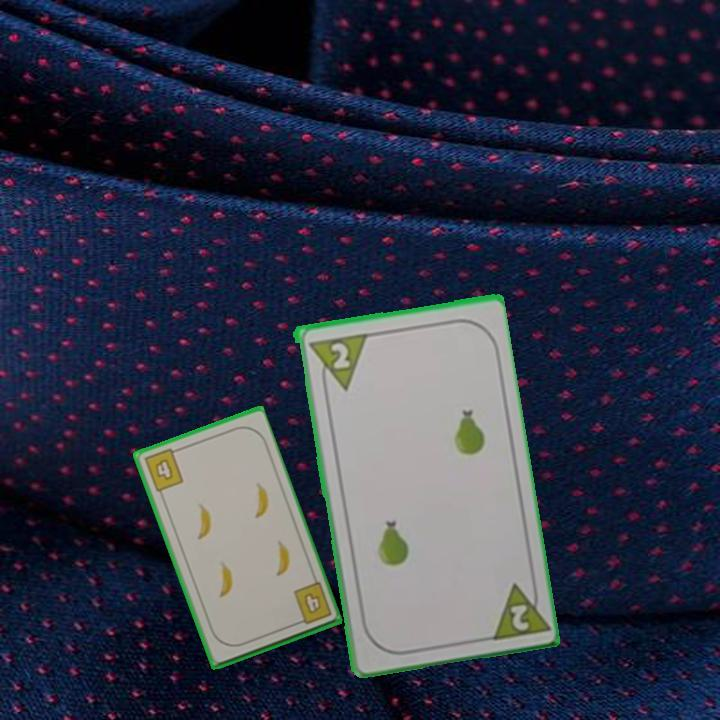2p: (484, 575, 549, 643), (304, 329, 368, 396)
4b: (140, 445, 186, 495), (290, 579, 334, 628)
